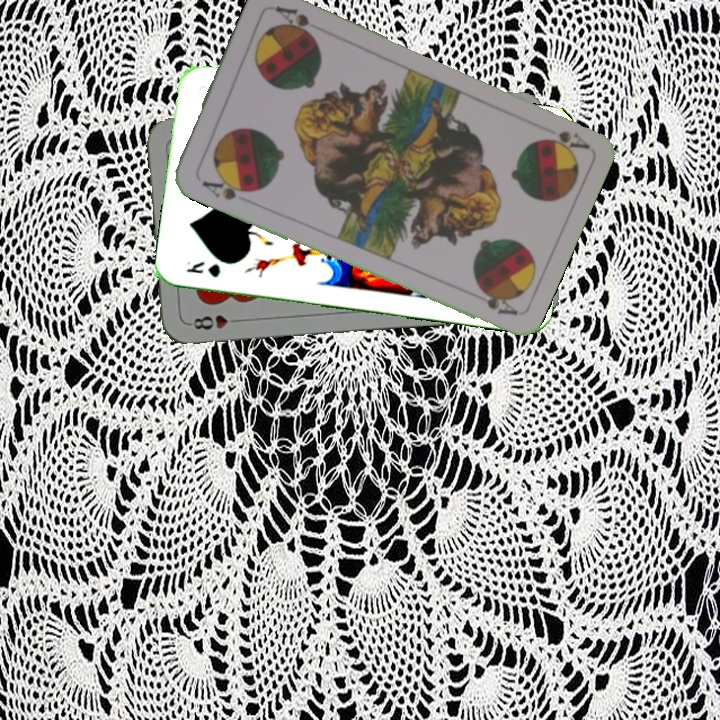GK: (183, 257, 223, 280)
H8: (185, 311, 244, 332)
SA: (198, 172, 254, 203), (537, 126, 592, 156)
